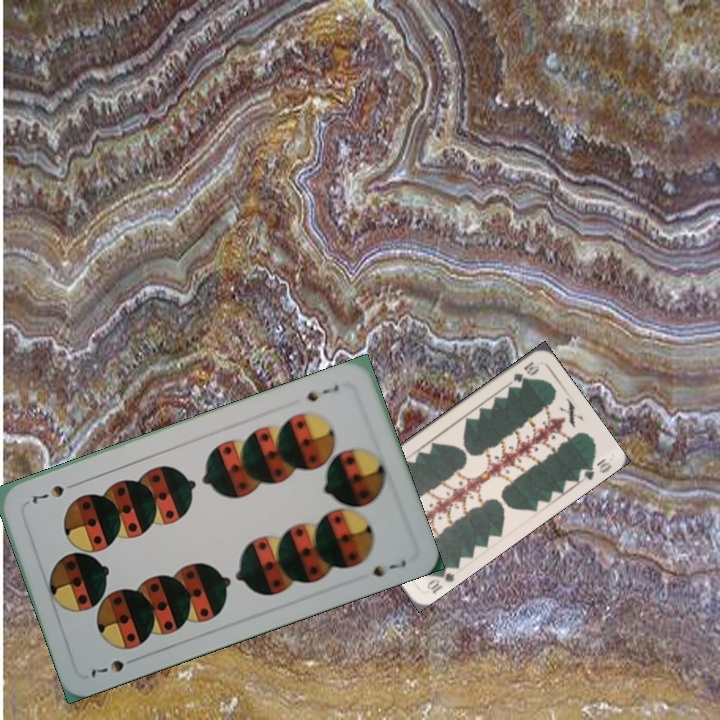G10: (505, 357, 542, 390), (422, 563, 457, 596)
S7: (86, 652, 142, 681), (303, 380, 342, 404)
